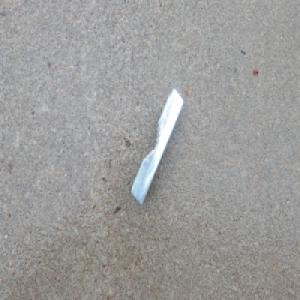ClampPart: (131, 90, 184, 207)
